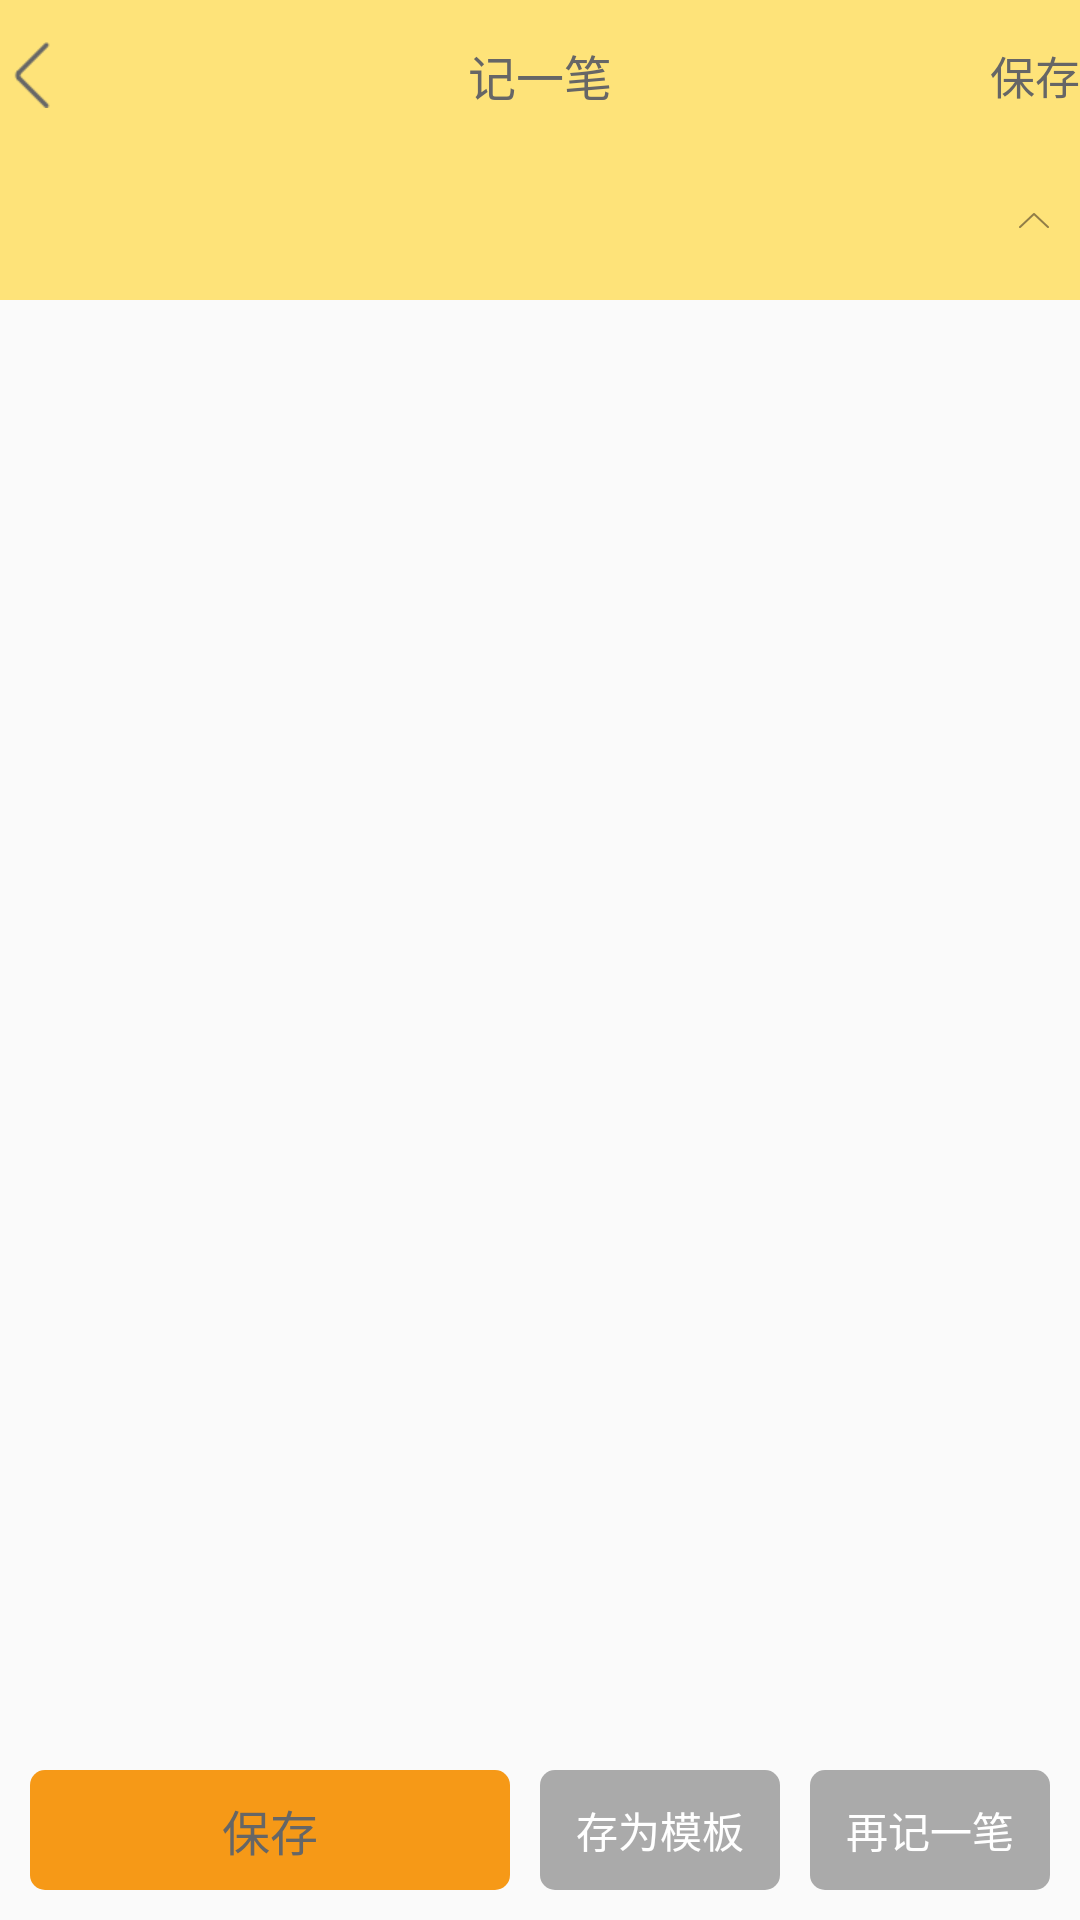

Icon click points for this 1080px x 1920px phone screenshot, format (x=x, y=y):
back: (x=32, y=75)
